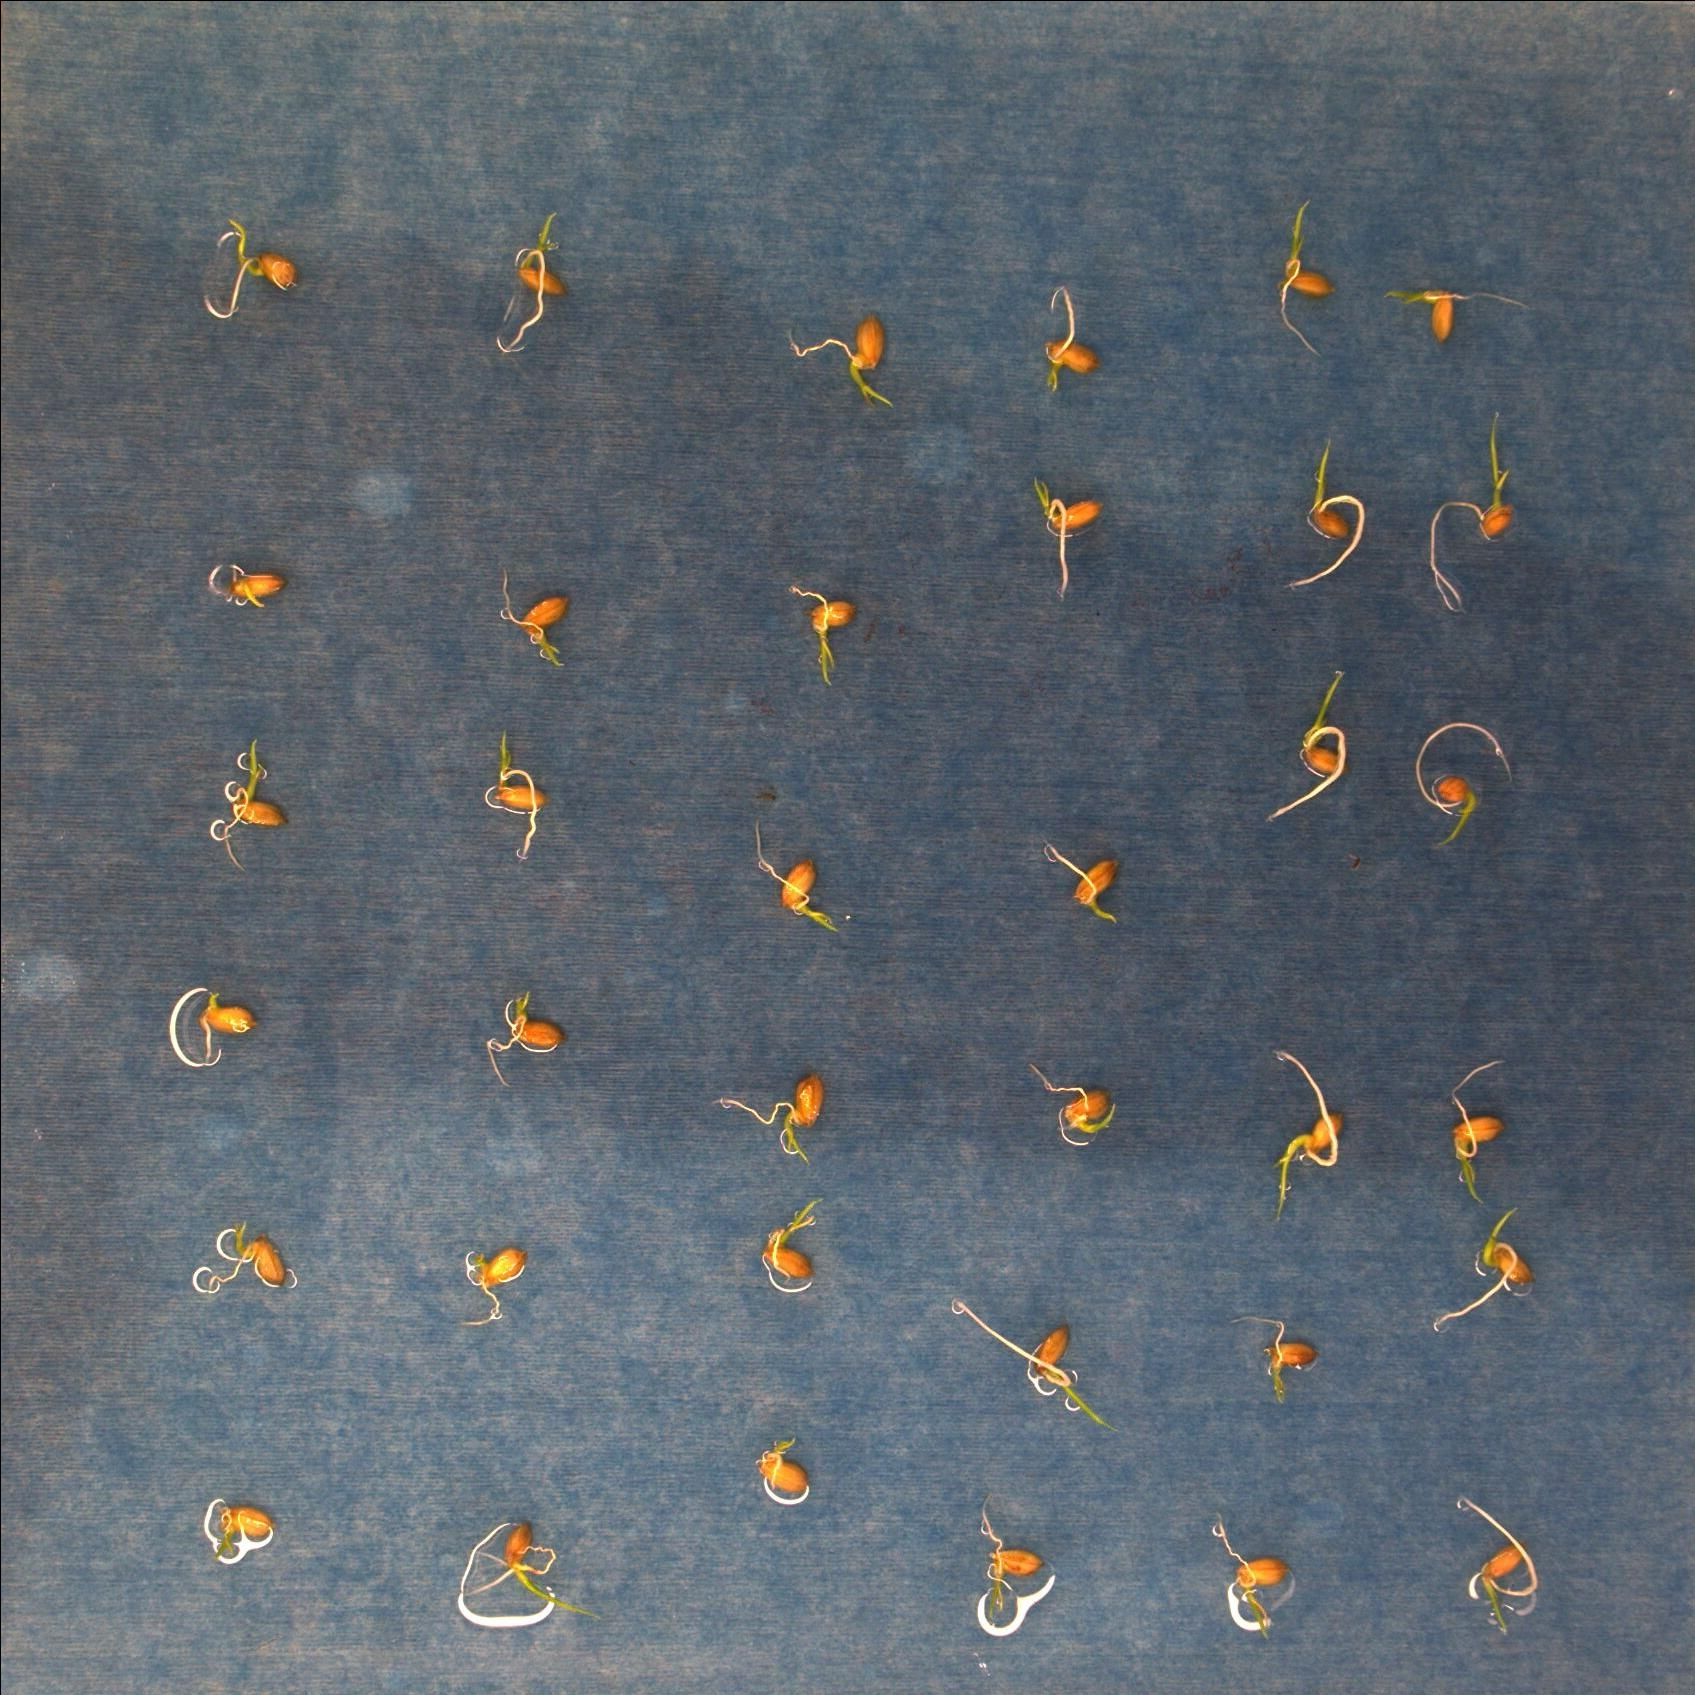not sprout: (455, 1245, 528, 1326), (197, 986, 253, 1062), (747, 1434, 810, 1501)
sprout: (948, 1298, 1113, 1433), (1426, 404, 1510, 616), (473, 1510, 612, 1620), (1260, 663, 1350, 827), (1270, 1043, 1346, 1226), (1282, 432, 1367, 590), (1411, 720, 1513, 851), (1431, 1208, 1527, 1333), (1453, 1496, 1538, 1638), (1267, 196, 1336, 363), (785, 310, 900, 411), (711, 1073, 827, 1169), (494, 210, 567, 360), (1444, 1059, 1515, 1208), (200, 216, 298, 323), (1208, 1513, 1287, 1645), (751, 820, 840, 936), (210, 740, 287, 869), (1029, 477, 1104, 601), (480, 992, 563, 1096), (1385, 282, 1524, 345), (484, 725, 546, 863), (787, 581, 857, 688), (972, 1507, 1045, 1610), (495, 570, 567, 672), (1042, 838, 1124, 927), (1034, 281, 1097, 393), (1024, 1062, 1118, 1136), (1246, 1312, 1316, 1405), (206, 1220, 290, 1285), (761, 1197, 820, 1281), (213, 1498, 278, 1562), (210, 556, 282, 610)
